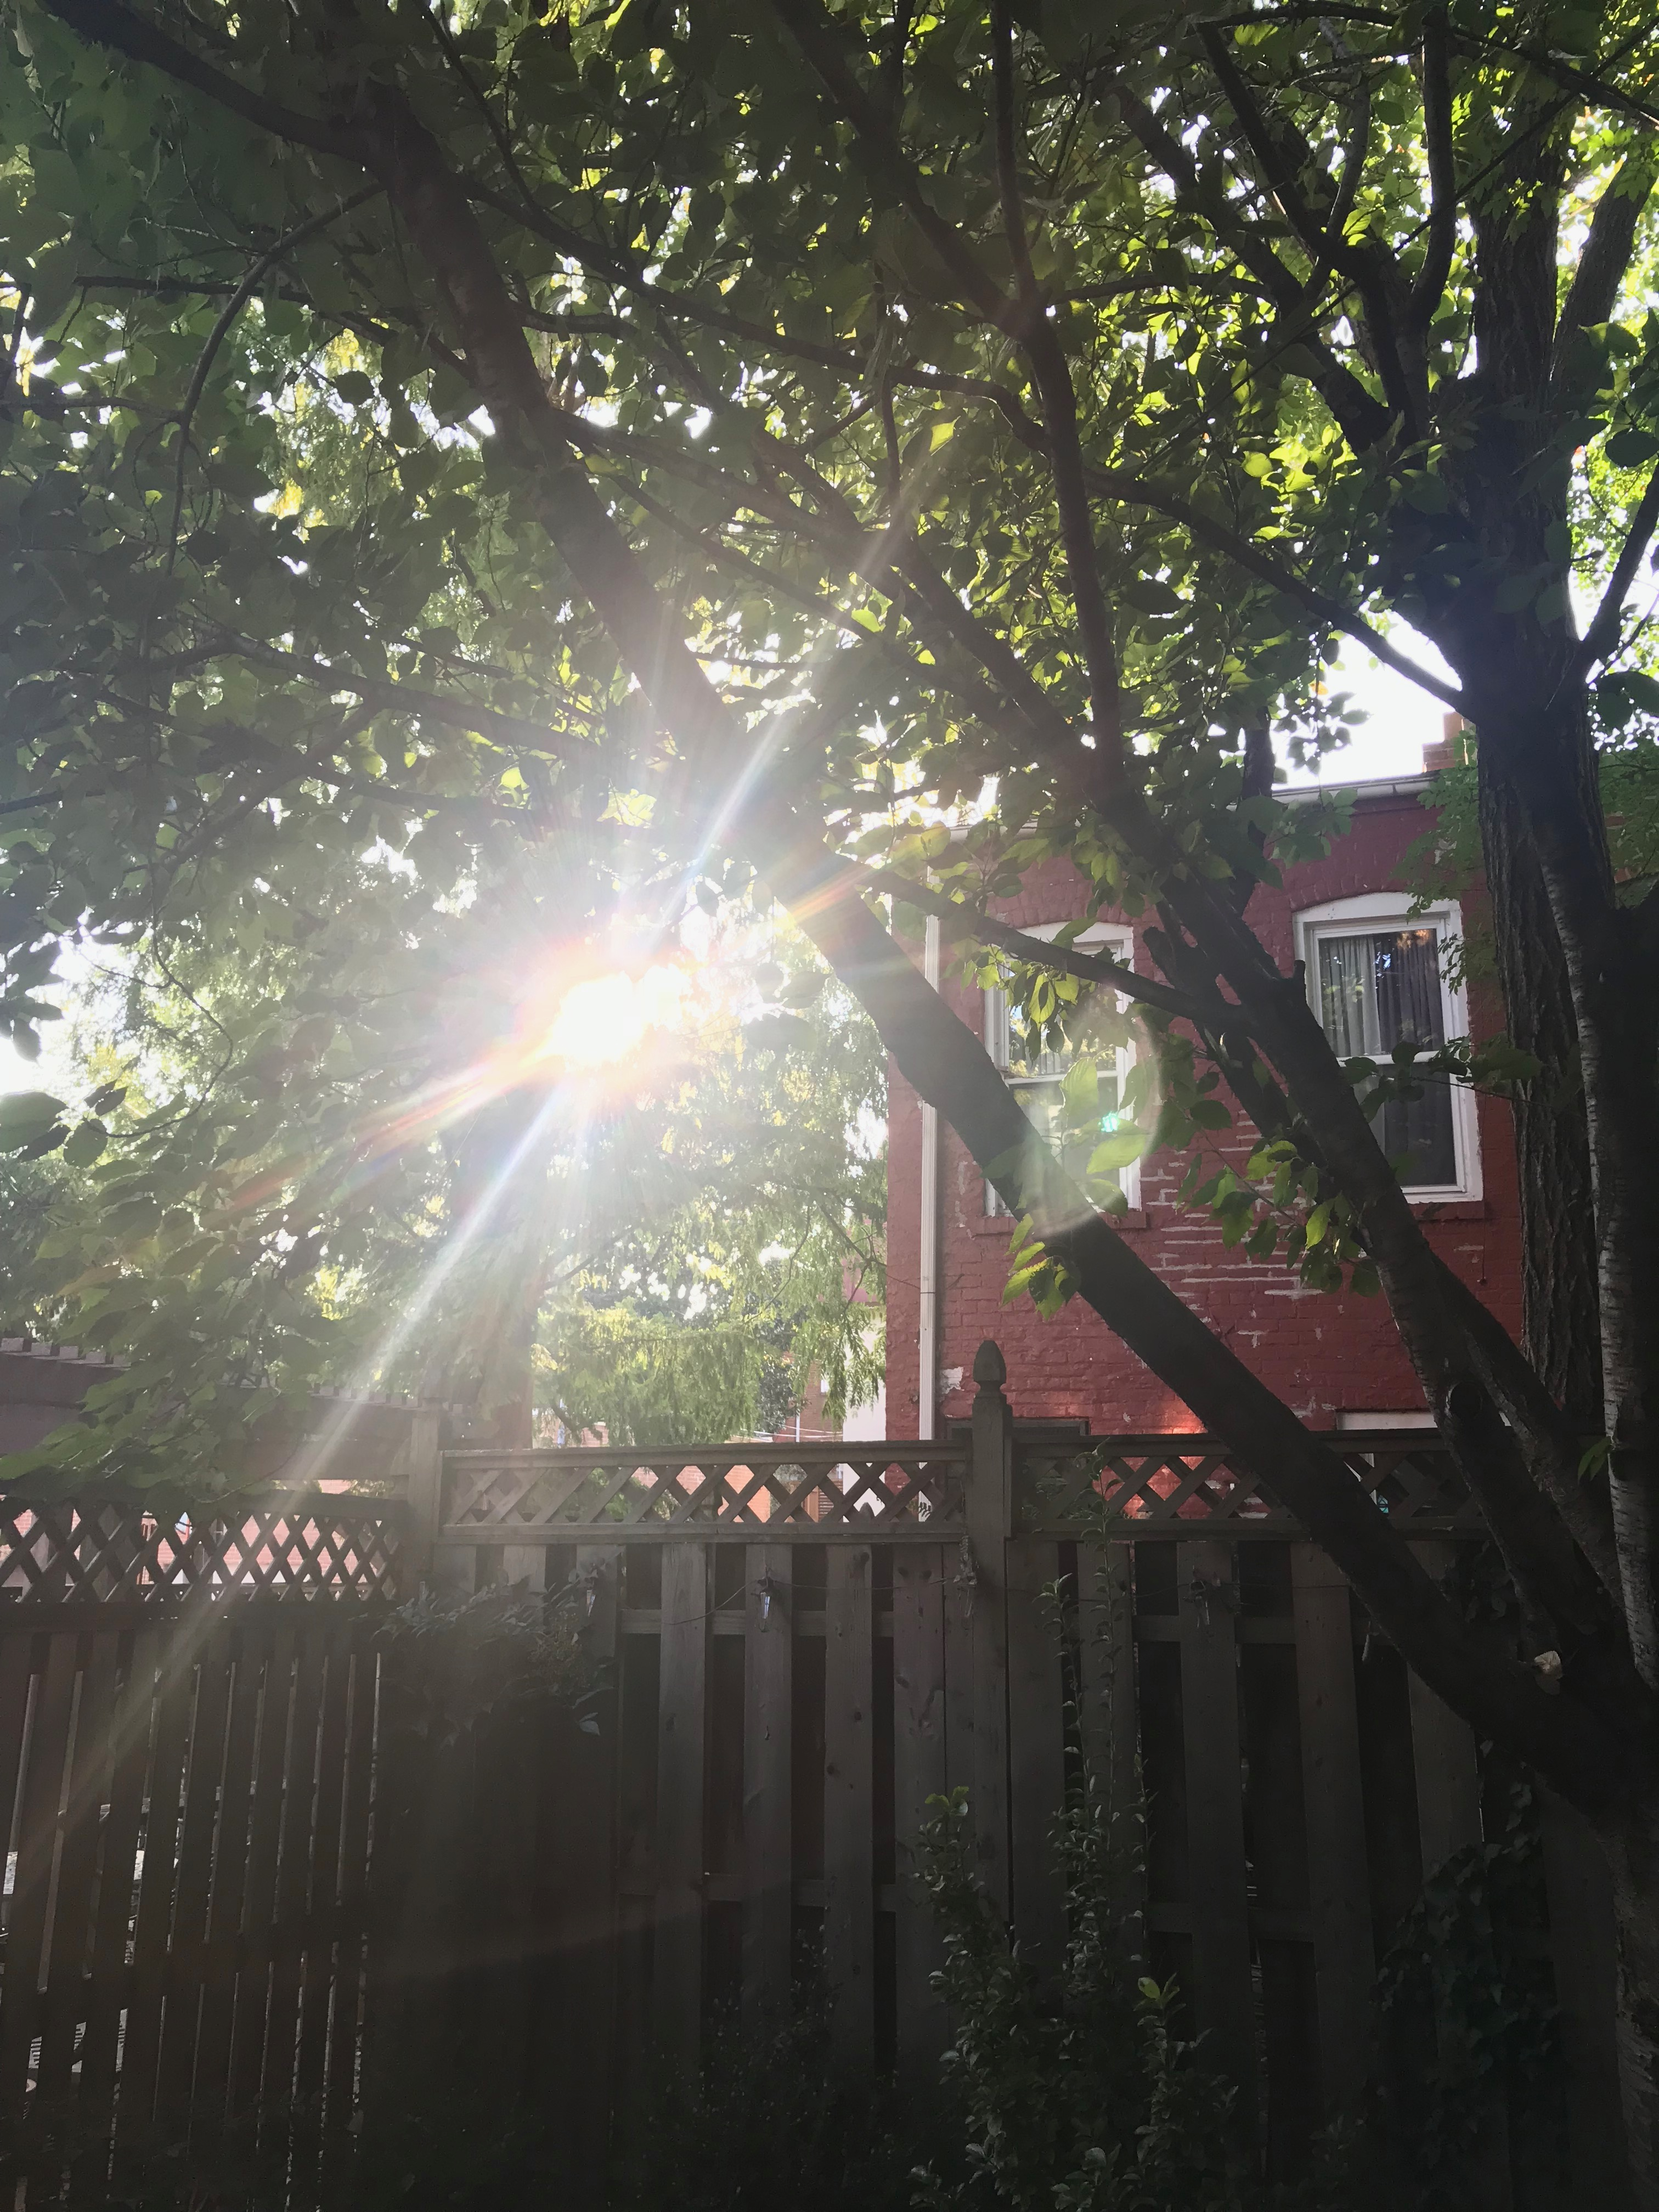flare: (1098, 1111, 1122, 1134)
